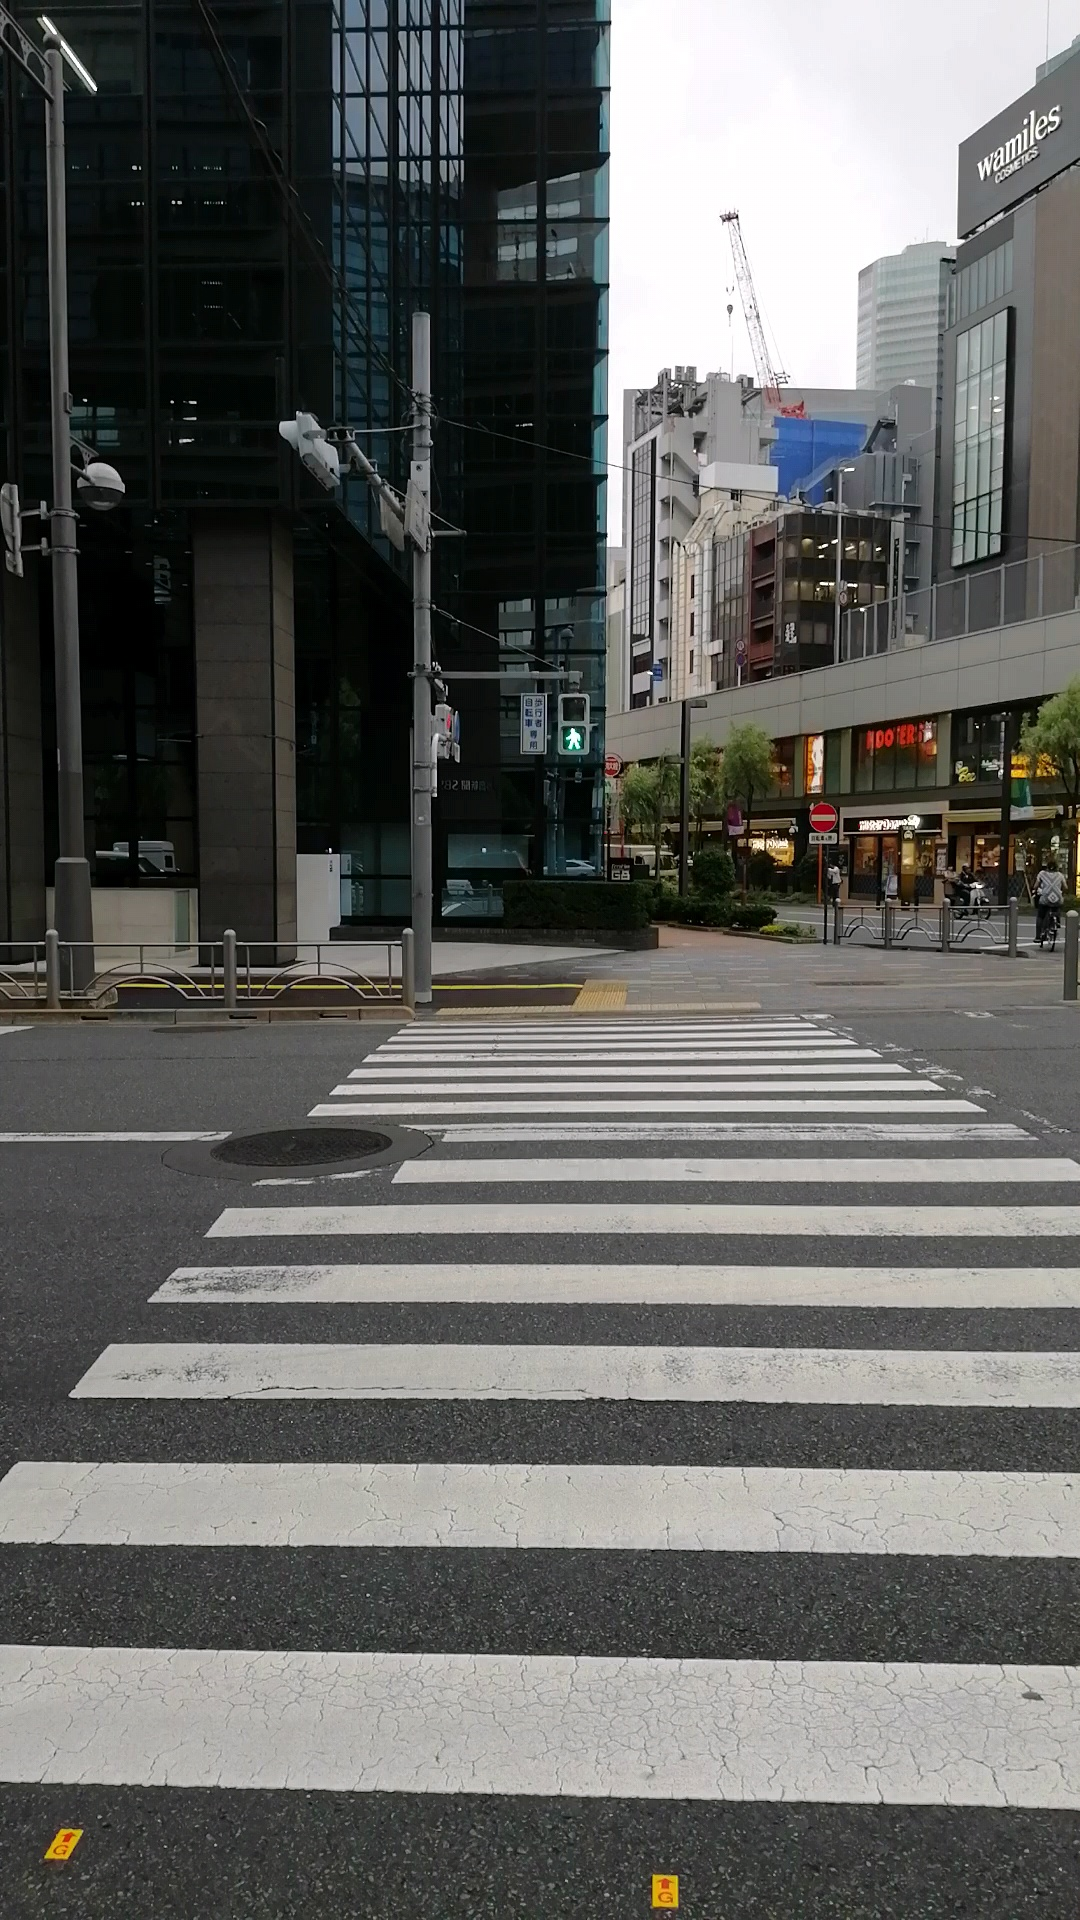green: (556, 691, 587, 756)
